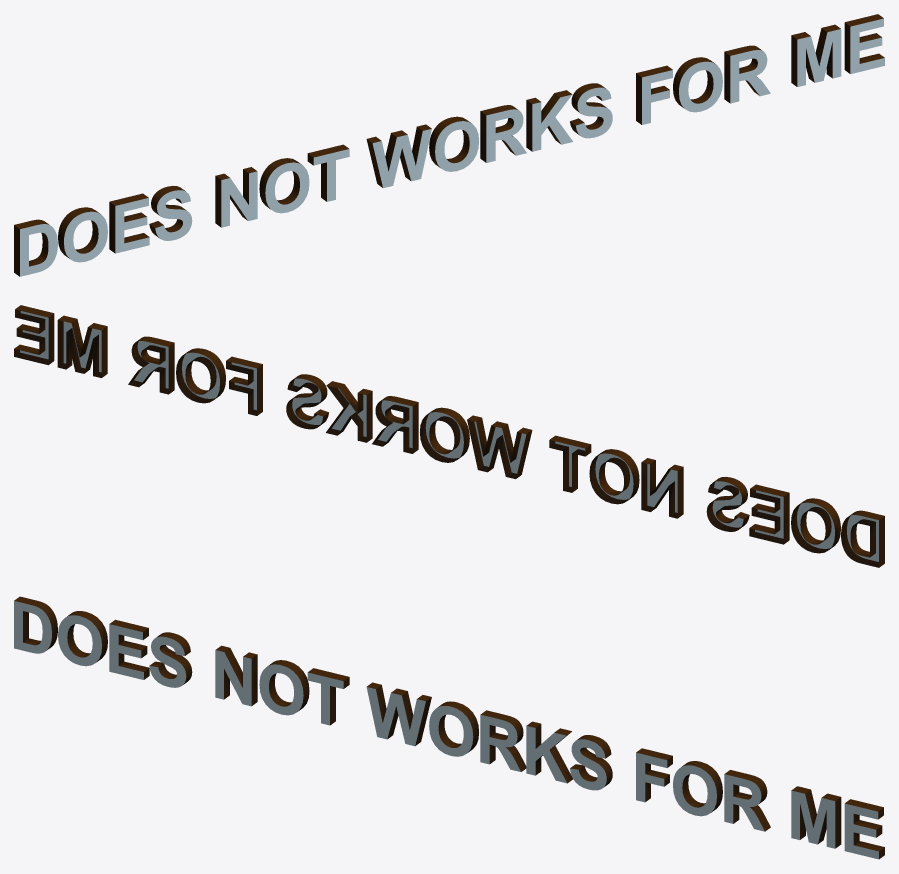
The model's file is Drawer_Label_B.FBX.
3 views of the same model, one above another, from view 1: azimuth 30°, elevation 25°; view 2: azimuth 150°, elevation 25°; view 3: azimuth 330°, elevation 25° (orthographic).
Parts seen in each view (by area): view 1: Does_Not; view 2: Does_Not; view 3: Does_Not.
Part boxes in pixels (left/top/right/bottom): Does_Not: left=14, top=14, right=884, bottom=276; Does_Not: left=14, top=305, right=884, bottom=567; Does_Not: left=14, top=596, right=884, bottom=859.
Size of the model in its own units: 42.01 by 2.29 by 0.5.
